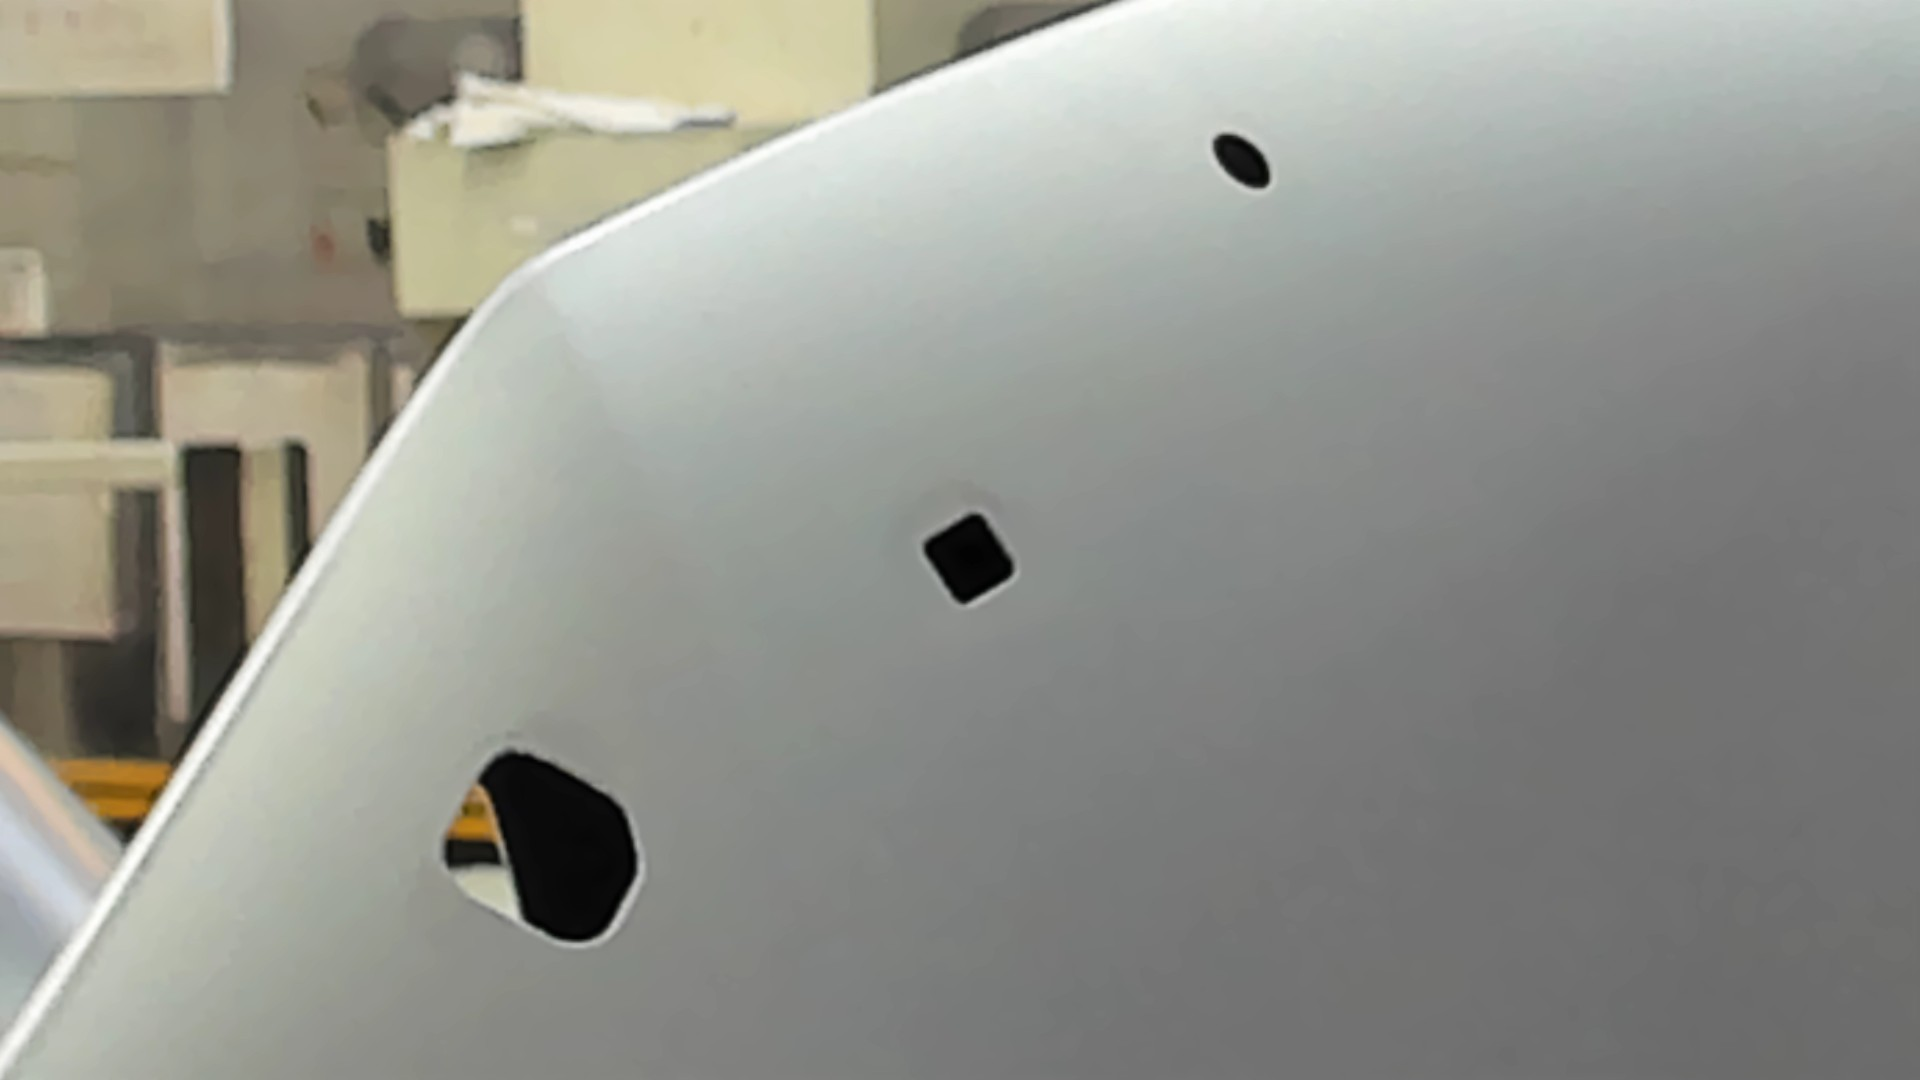chico: (1205, 131, 1276, 196)
grande: (433, 740, 646, 949)
mediano: (911, 504, 1033, 615)
